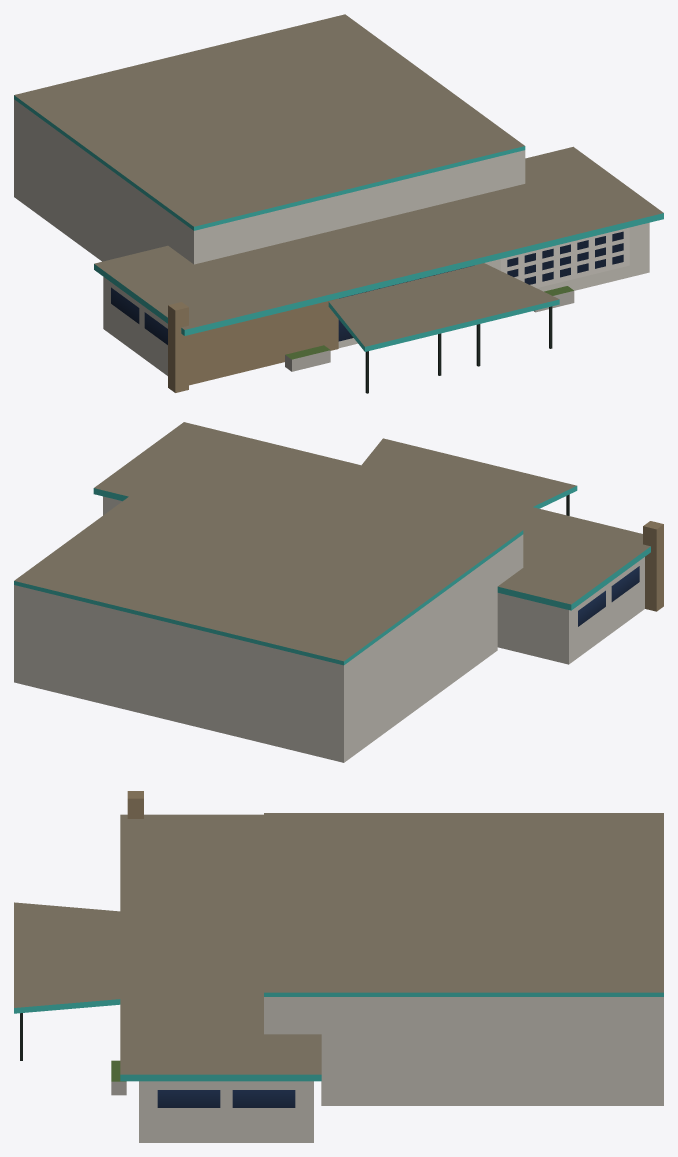
File: vapors.glb
3 views of the same model, one above another, from view 1: azimuth 30°, elevation 25°; view 2: azimuth 150°, elevation 25°; view 3: azimuth 270°, elevation 25° (orthographic). The views are drawn at different scales.
Parts seen in each view (by area): view 1: Vapors; view 2: Vapors; view 3: Vapors.
Part boxes in pixels (x1,y1,x2,y2): Vapors: (14, 14, 663, 393); Vapors: (14, 422, 663, 762); Vapors: (14, 791, 663, 1142).
Bounding box in the file's own units: 49.8 × 10 × 52.
